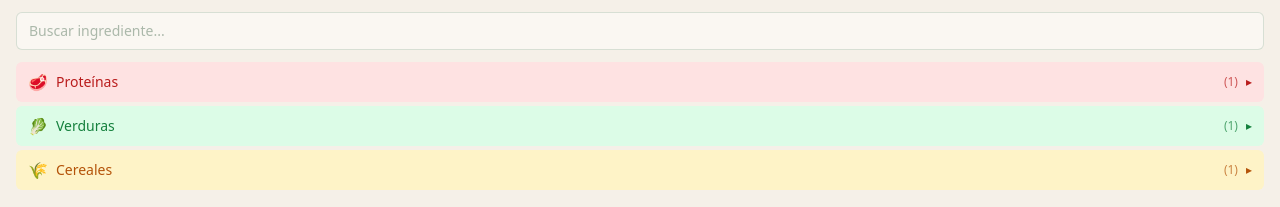
IngredientPicker › shows flat filtered list when searching
Expected: the text "Verduras" is shown, [56, 116, 115, 135]
Type "arroz" into the field with placeholder "Buscar ingrediente..." at (640, 31), box [16, 12, 1264, 50]
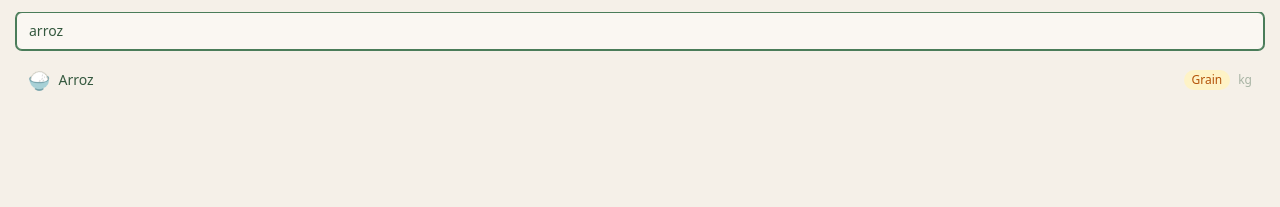
Expected: the text "Arroz" is shown, [58, 70, 94, 89]
Expected: the button "Verduras" is gone
Expected: the button "Cereales" is gone
